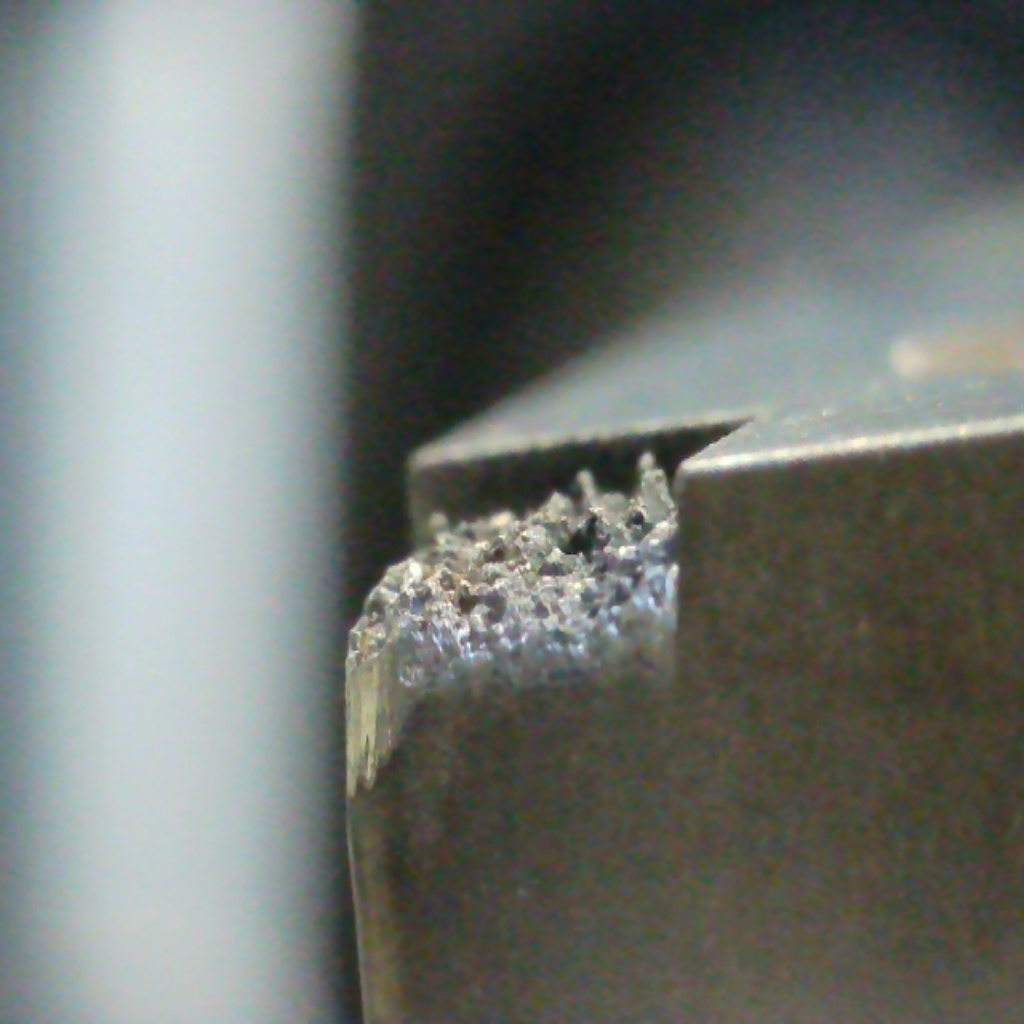flank_wear: (338, 647, 435, 808)
